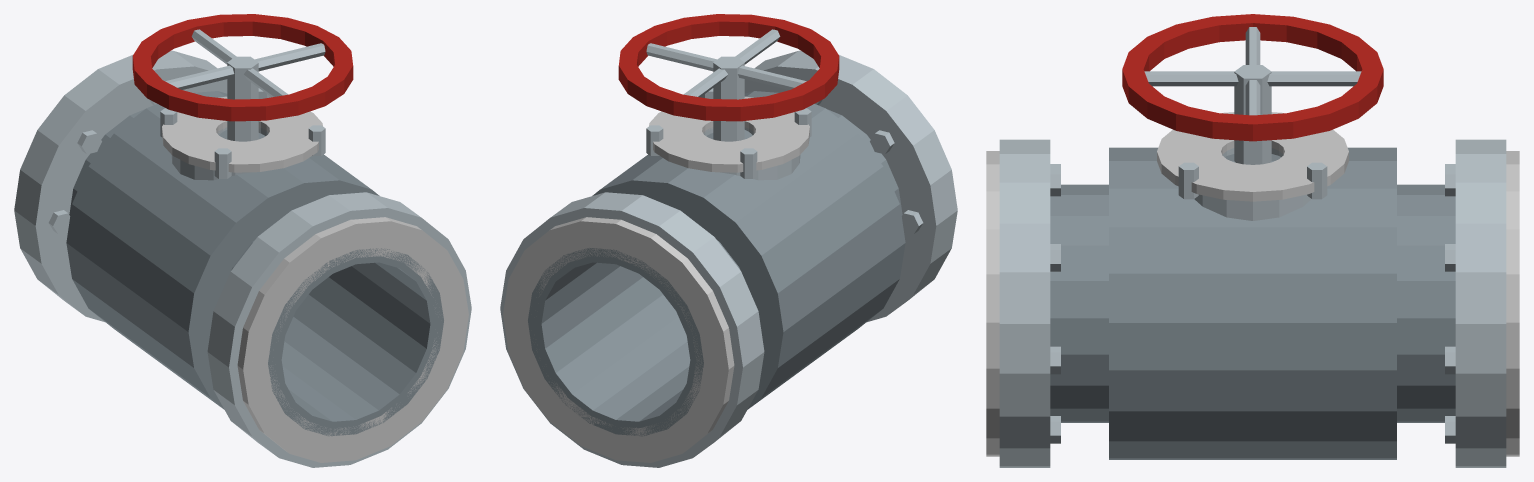
Rendered from body.obj.
3 views of the same model, side by side, from view 1: azimuth 30°, elevation 25°; view 2: azimuth 150°, elevation 25°; view 3: azimuth 270°, elevation 25° (orthographic). The views are drawn at different scales.
Size of the model in its own units: 0.62 by 0.795 by 1.
